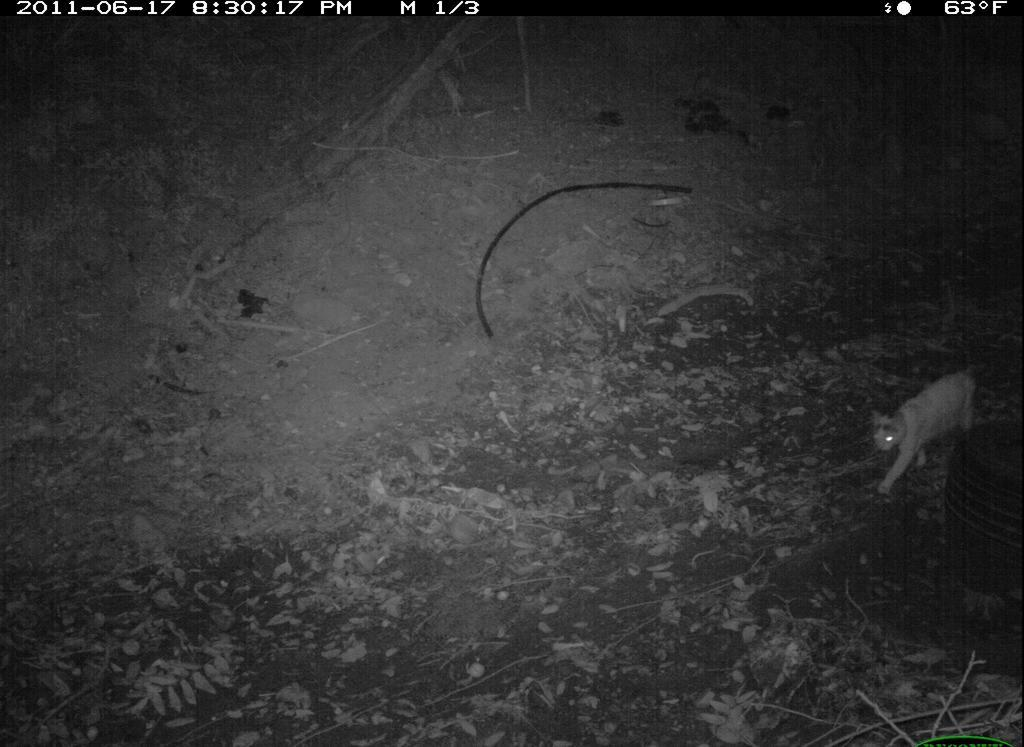cat: (861, 356, 989, 501)
